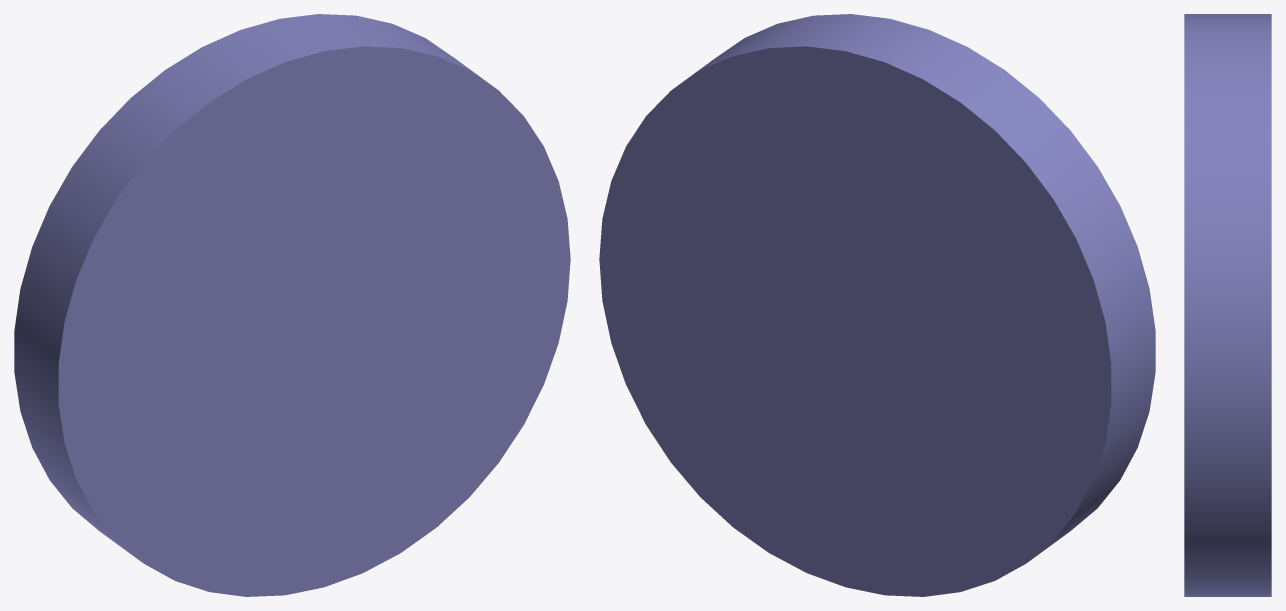
File: bottom_absorber.obj
3 views of the same model, side by side, from view 1: azimuth 30°, elevation 25°; view 2: azimuth 150°, elevation 25°; view 3: azimuth 270°, elevation 25° (orthographic).
Size of the model in its own units: 31.24 by 31.26 by 4.68.
